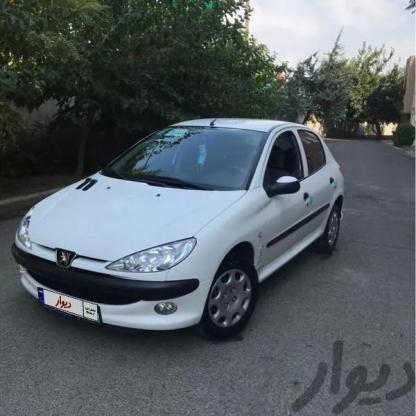Car: (23, 111, 356, 360)
